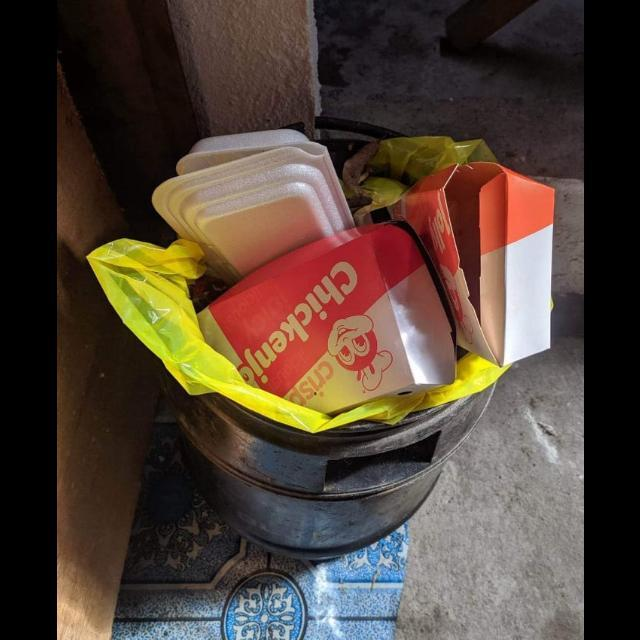paper: (196, 222, 456, 415), (386, 162, 554, 369)
styrofoam: (150, 129, 355, 285)
